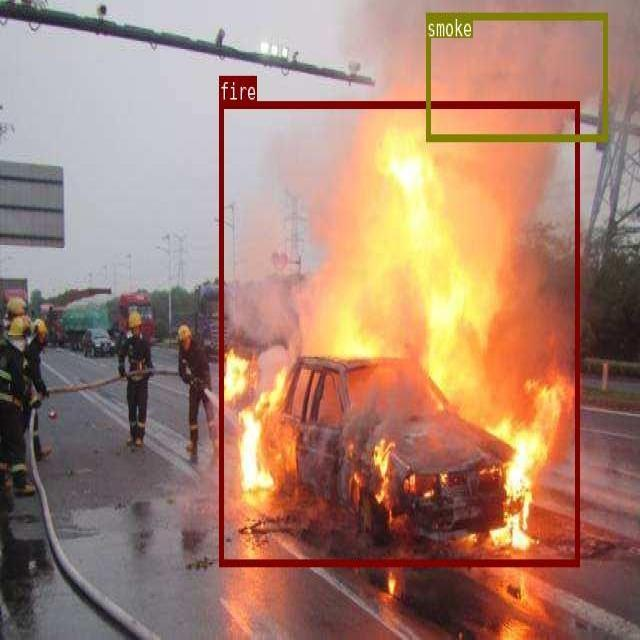fire: (218, 101, 578, 565)
smoke: (426, 12, 606, 139)
